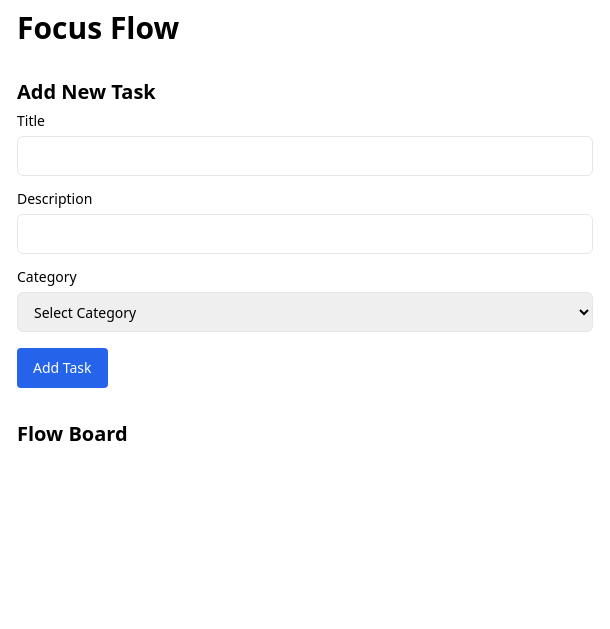
Test: AppWithContext › handles deleting an item
The width and height of the screenshot is (610, 629).
Type "Test Item" into the field labelled "Title" at (305, 156), box [17,136,593,176]
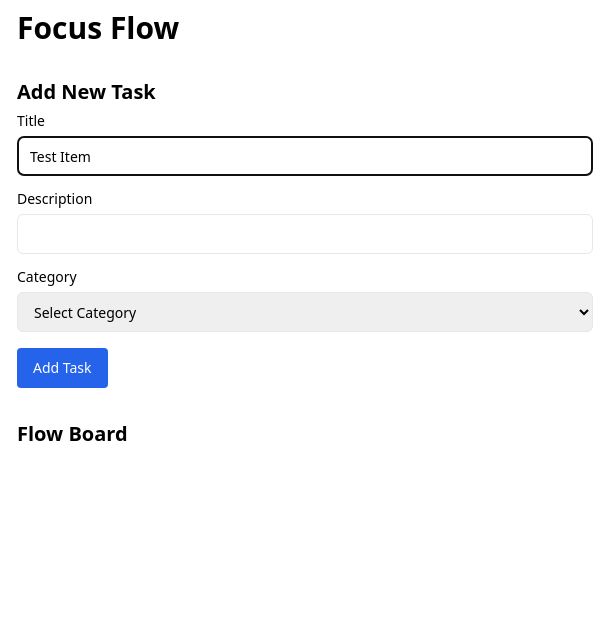
Type "Test Content" into the field labelled "Description" at (305, 234), box [17,214,593,254]
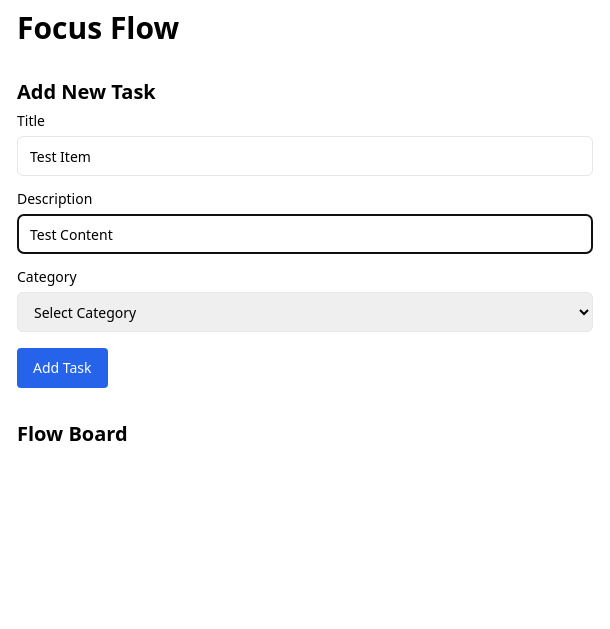
Select "Urgent" in the dropdown labelled "Category" at (305, 312), box [17,292,593,332]
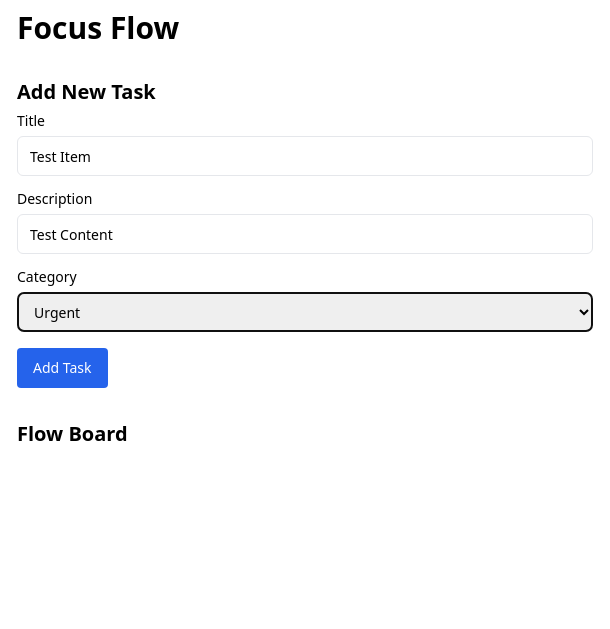
Click the button "Add Task" at (62, 368), box [17,348,108,388]
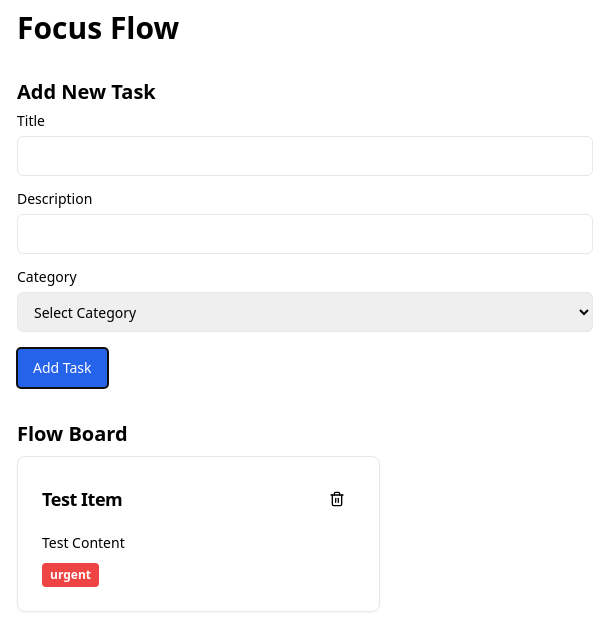
Expected: the button named "delete" is shown
Click the button named "delete" at (337, 499), box [319,481,355,517]
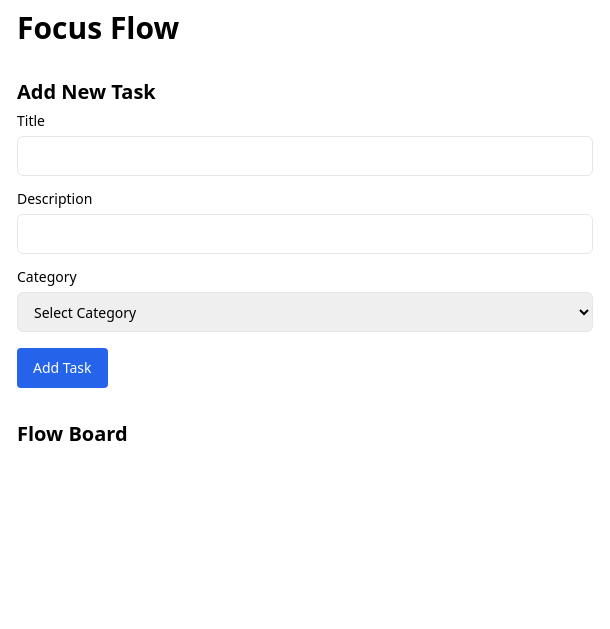
Expected: the heading "Test Item" is gone
